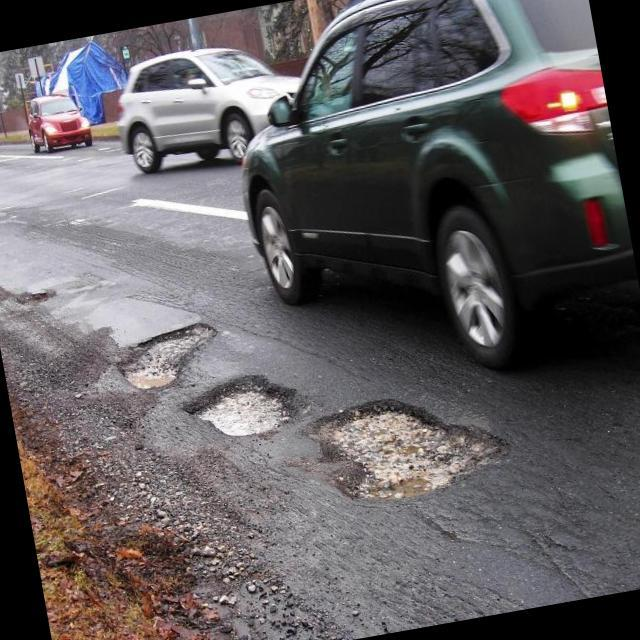Pothole: (314, 402, 500, 500), (194, 377, 294, 437), (124, 323, 214, 389), (18, 291, 51, 303)
